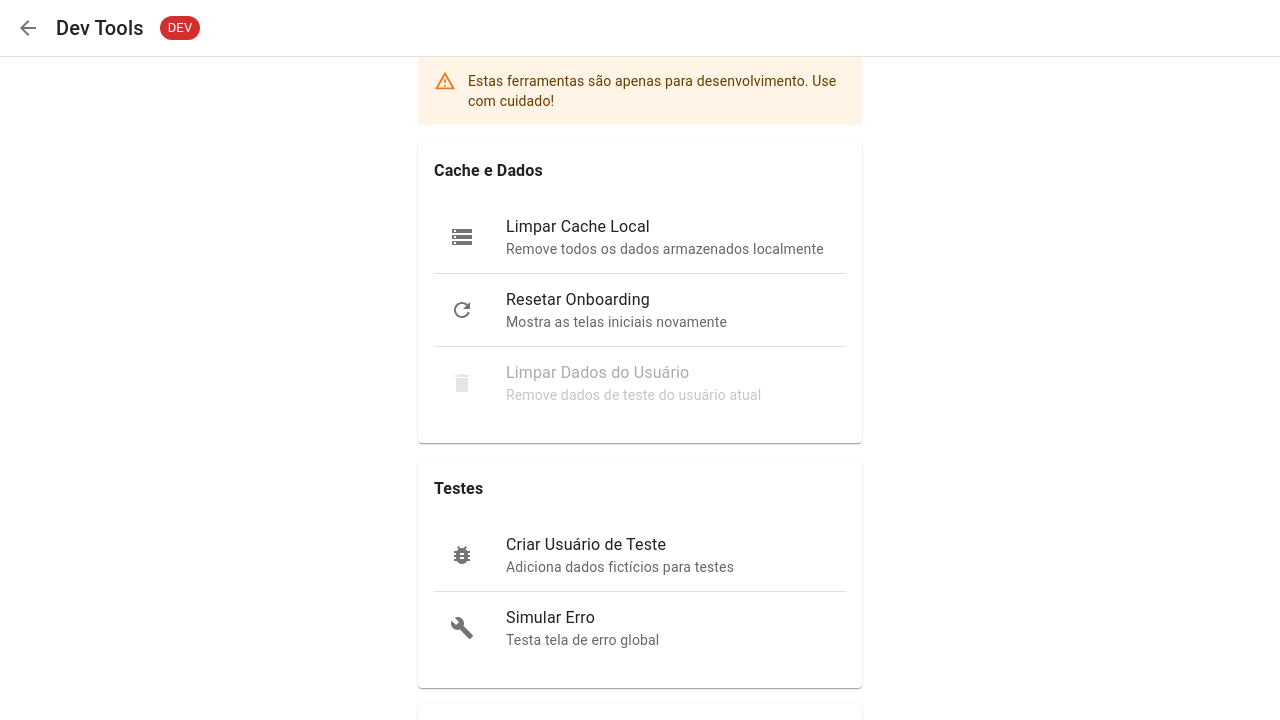
Test: DevToolsScreen › simula erro disparando o error boundary global
Click the text "Simular Erro": (550, 618) [506,608,595,627]
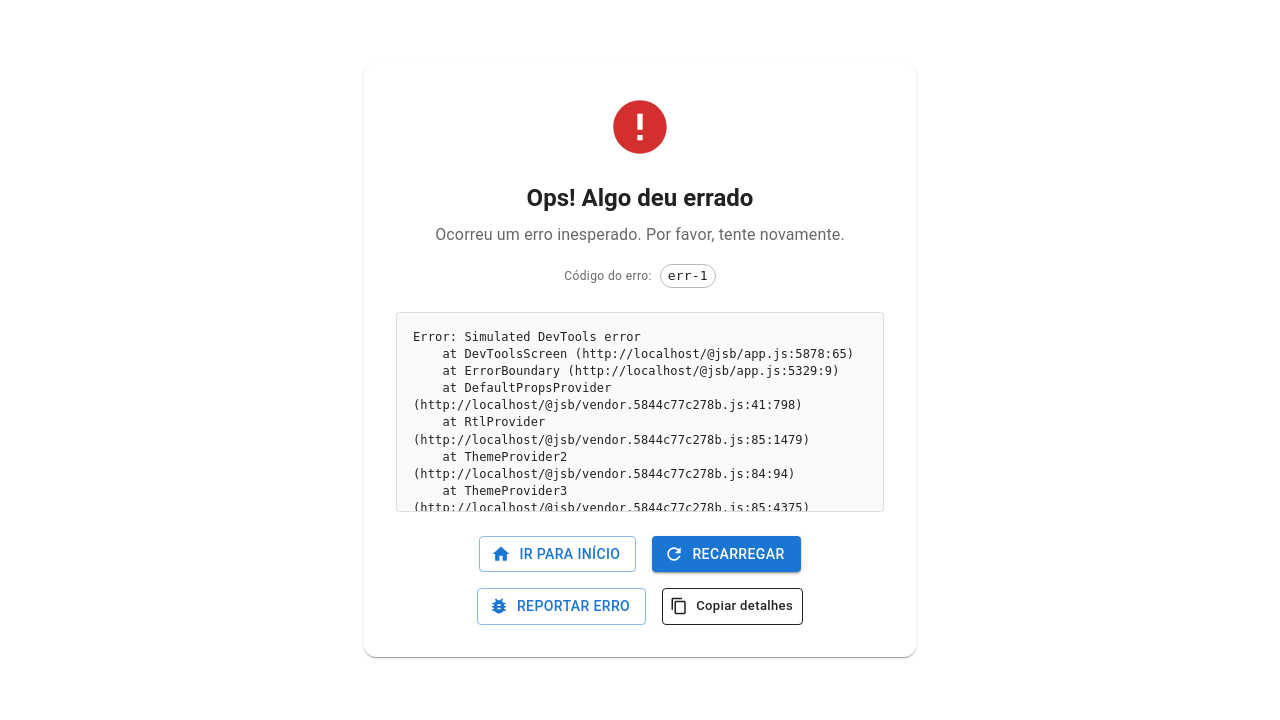
Now the heading "Ops! Algo deu errado" is shown, box [527,184,753,212]
